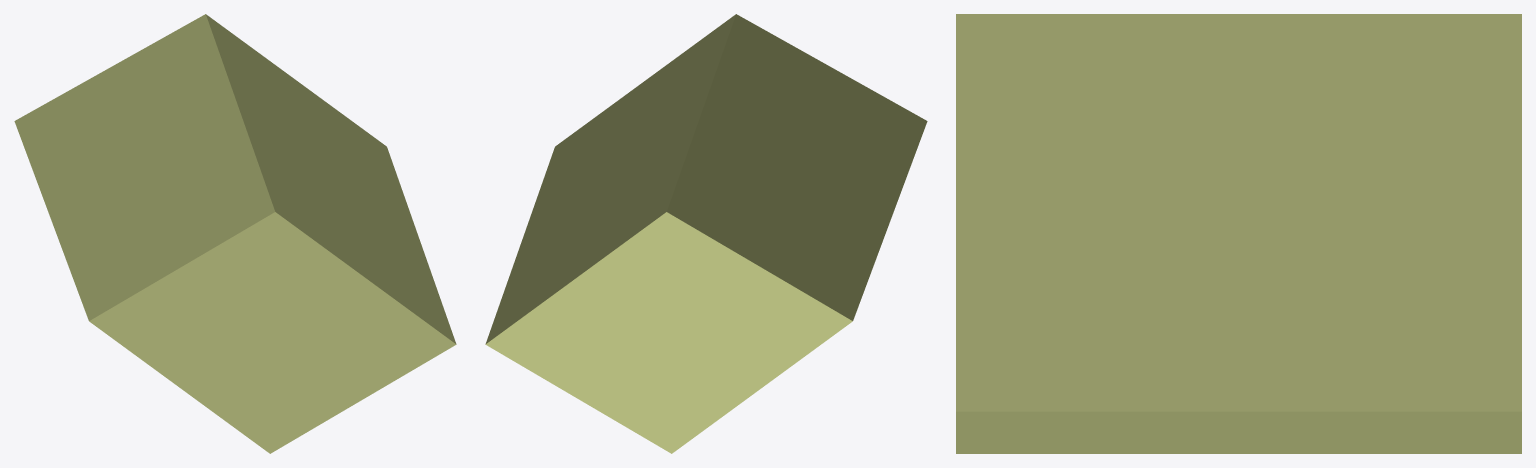
3 views of the same model, side by side, from view 1: azimuth 30°, elevation 25°; view 2: azimuth 150°, elevation 25°; view 3: azimuth 270°, elevation 25° (orthographic). The views are drawn at different scales.
Visible parts, largest first — view 1: 0_1_2_0_0_2_2_0_2_1_2_2; view 2: 0_1_2_0_0_2_2_0_2_1_2_2; view 3: 0_1_2_0_0_2_2_0_2_1_2_2.
Boxes of the visible parts, x1,y1,x2,y2 form: 0_1_2_0_0_2_2_0_2_1_2_2: [14, 14, 456, 453]; 0_1_2_0_0_2_2_0_2_1_2_2: [485, 14, 927, 453]; 0_1_2_0_0_2_2_0_2_1_2_2: [956, 14, 1521, 453].
Size of the model in its own units: 4.99 by 5.09 by 6.
